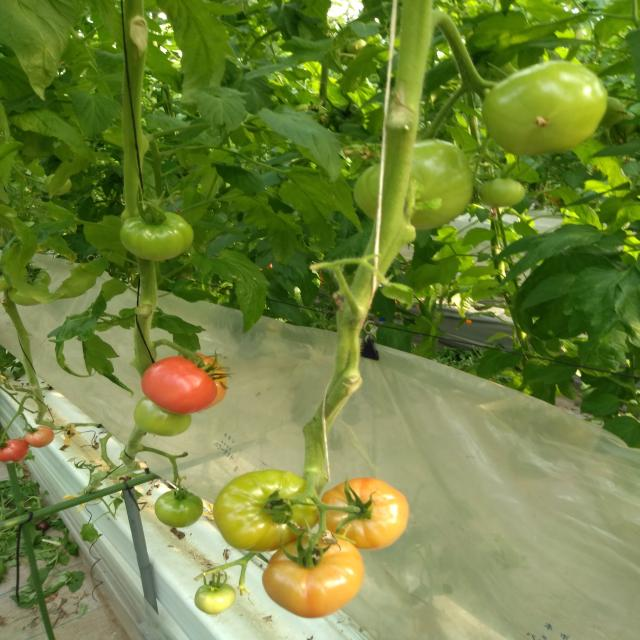n-half-riped: (213, 469, 321, 552), (262, 533, 364, 618), (317, 477, 408, 550), (179, 352, 227, 412), (23, 426, 54, 448)
n-riped: (142, 356, 218, 415), (0, 439, 29, 463)
n-unriped: (481, 60, 610, 156), (403, 140, 473, 230), (120, 211, 194, 262), (134, 396, 192, 436), (154, 490, 204, 528), (354, 162, 381, 222), (194, 582, 237, 615), (478, 179, 525, 208), (8, 279, 49, 306), (24, 264, 51, 288)
